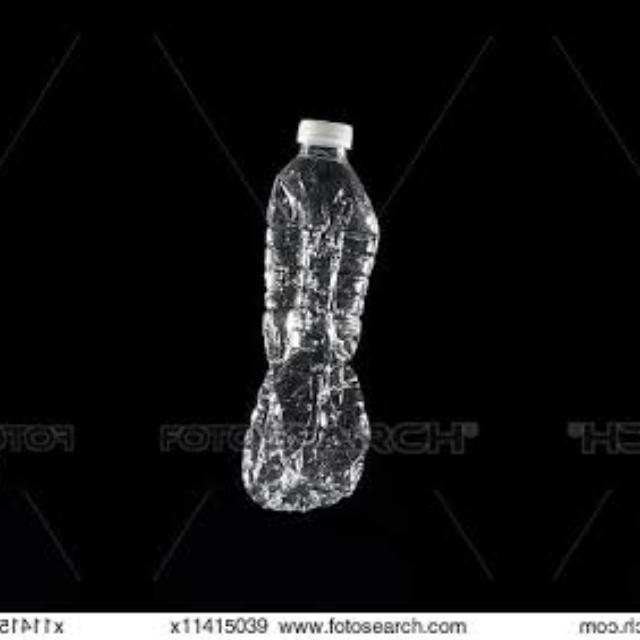Plastic: (211, 98, 419, 540), (0, 98, 21, 540), (625, 98, 640, 540)
